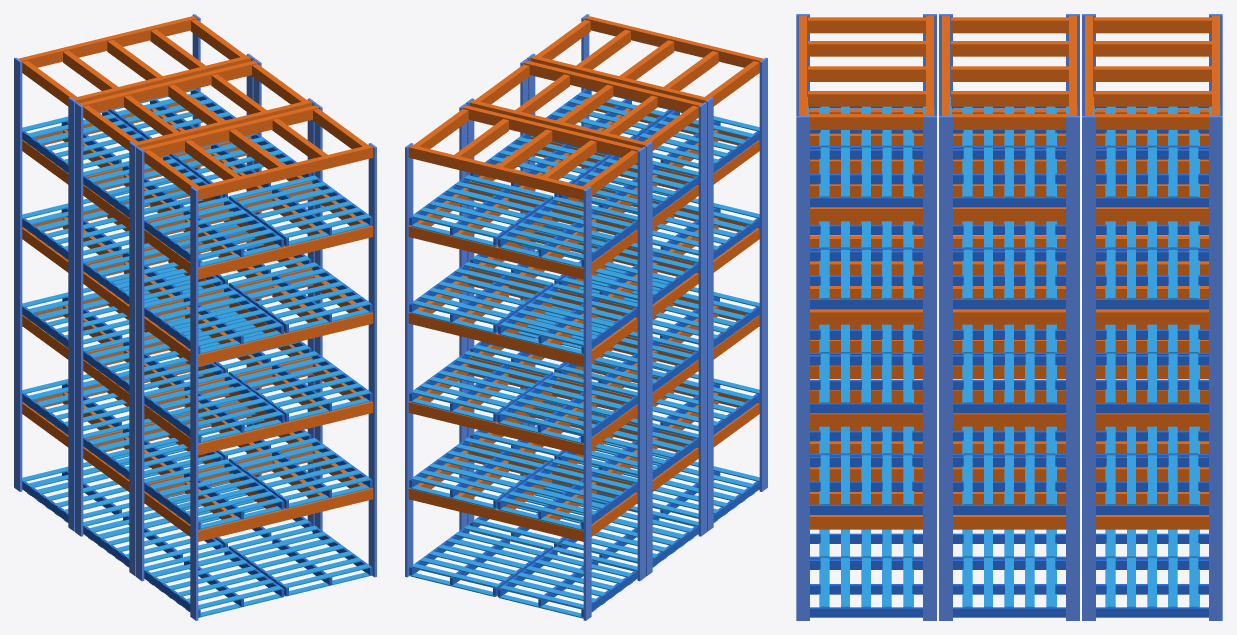
Rendered from Imets4palletracks.glb.
The picture shows the model from 3 angles, left to right: view 1: azimuth 30°, elevation 25°; view 2: azimuth 150°, elevation 25°; view 3: azimuth 270°, elevation 25°; orthographic projection. The views are drawn at different scales.
Parts seen in each view (by area): view 1: post_1, post_5, post_9, post_3, post_2, post_11, post_7, bars_9, bars_6, bars_8, bars_5, bars_7 (+38 smaller); view 2: post_3, post_7, post_11, post_9, post_8, post_1, post_5, bars_24, bars_9, bars_29, bars_19, bars_21 (+38 smaller); view 3: post, post_2, post_4, post_6, post_8, post_10, barsH5, barsH5_5, barsH5_10, barsH2, barsH3, barsH4 (+119 smaller).
Boxes of the visible parts, box(x1,y1,x2,y2) form: post_1: box(136, 147, 144, 581); post_5: box(75, 102, 83, 536); post_9: box(14, 57, 22, 491); post_3: box(190, 186, 198, 620); post_2: box(368, 143, 376, 577); post_11: box(68, 97, 76, 531); post_7: box(129, 142, 137, 576); bars_9: box(194, 145, 373, 200); bars_6: box(198, 401, 373, 455); bars_8: box(198, 225, 373, 279); bars_5: box(198, 488, 373, 541); bars_7: box(198, 312, 373, 366); post_3: box(759, 57, 767, 491); post_7: box(698, 102, 706, 536); post_11: box(637, 147, 645, 581); post_9: box(583, 186, 591, 620); post_8: box(405, 143, 413, 577); post_1: box(705, 97, 713, 531); post_5: box(644, 142, 652, 576); bars_24: box(408, 145, 587, 200); bars_9: box(584, 16, 763, 67); bars_29: box(462, 105, 641, 156); bars_19: box(523, 60, 702, 112); bars_21: box(408, 401, 583, 455); post: box(923, 116, 936, 620); post_2: box(796, 116, 809, 620); post_4: box(1066, 116, 1079, 620); post_6: box(939, 116, 952, 620); post_8: box(1209, 116, 1222, 620); post_10: box(1082, 116, 1095, 620); barsH5: box(808, 17, 925, 33); barsH5_5: box(951, 17, 1068, 33); barsH5_10: box(1094, 17, 1211, 33); barsH2: box(808, 91, 925, 106); barsH3: box(808, 66, 925, 81); barsH4: box(808, 41, 925, 56).
Size of what is drawn, in the model's own units: 2.96 by 6.73 by 5.17.
